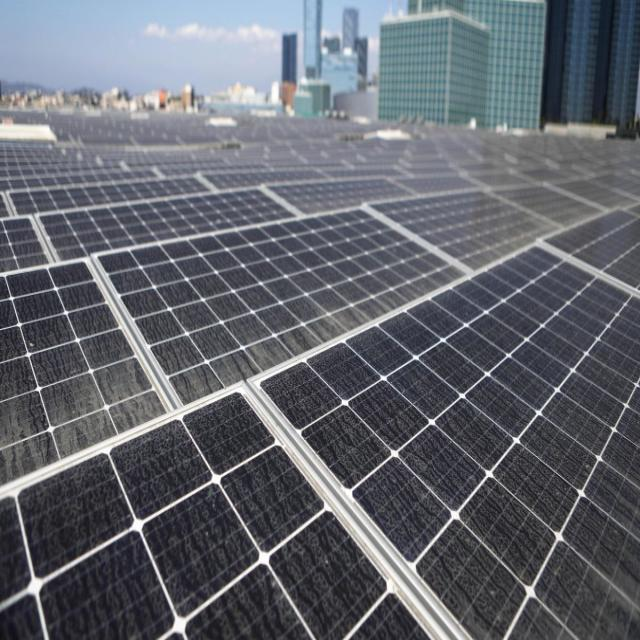dust-solar-panel: (0, 124, 639, 638)
